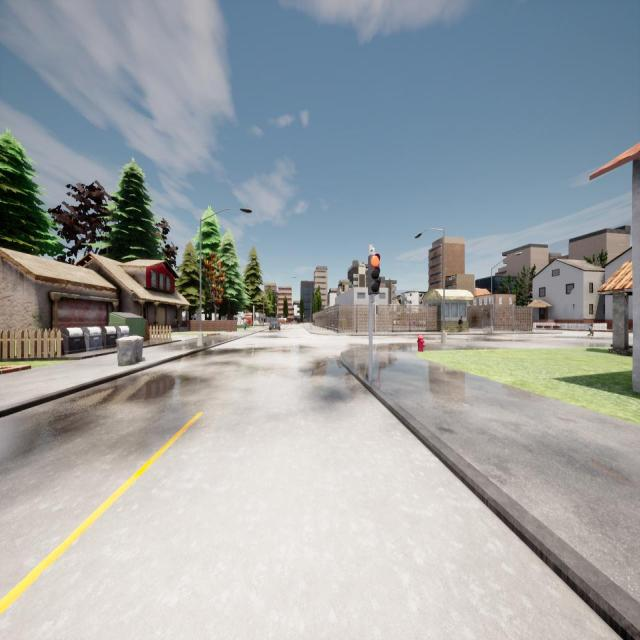Pedestrian: (588, 324, 594, 336), (459, 316, 463, 332), (243, 316, 247, 329)
Vehicle: (269, 318, 281, 330)
traffic_light: (368, 255, 379, 294), (376, 305, 378, 315), (254, 308, 255, 315)
